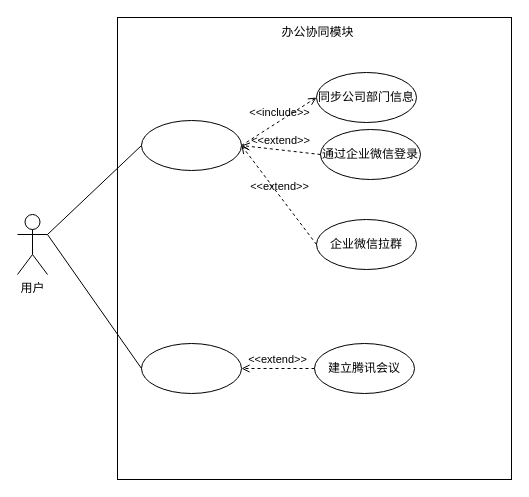
Some shapes in this 529 by 497 pixel diagram are drawn without their labels. Here are the shapes that lost their labels. From the top down, the centre of each, then its label:
At [191,145]: "关联企业微信".
At [191,368]: "关联腾讯会议".
